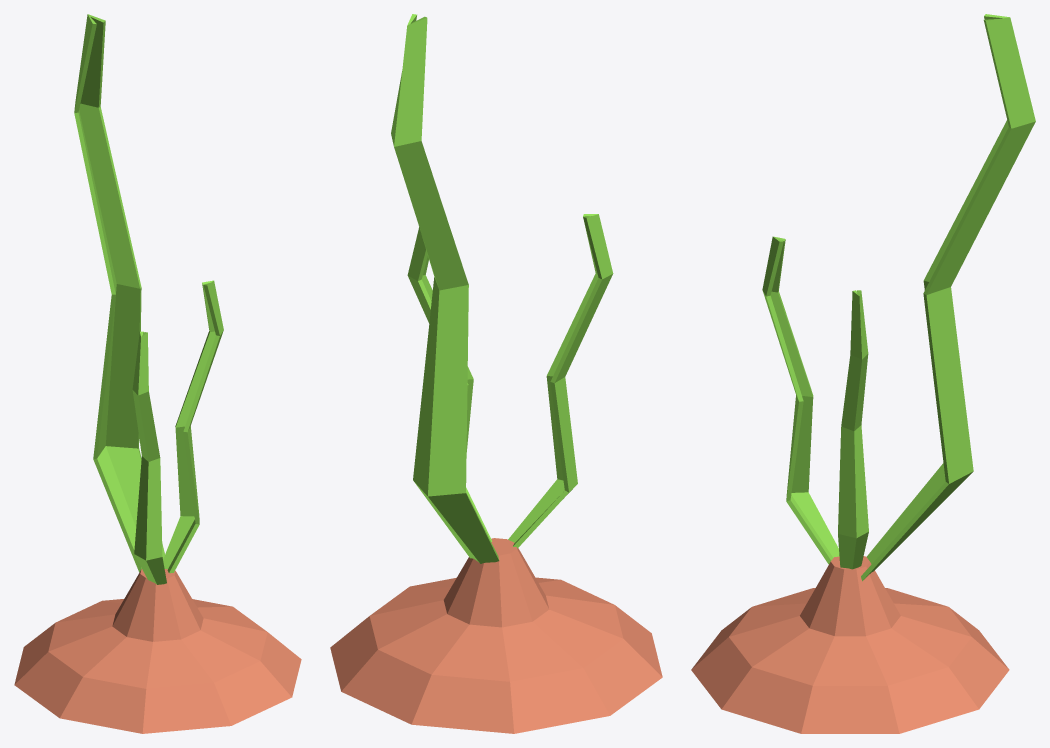
File: fruit10.fbx
The picture shows the model from 3 angles, left to right: view 1: azimuth 30°, elevation 25°; view 2: azimuth 150°, elevation 25°; view 3: azimuth 270°, elevation 25°; orthographic projection. The views are drawn at different scales.
Parts seen in each view (by area): view 1: Plane.006; view 2: Plane.006; view 3: Plane.006.
Boxes of the visible parts, bbox=[...] form: Plane.006: bbox=[14, 14, 301, 733]; Plane.006: bbox=[330, 14, 662, 733]; Plane.006: bbox=[691, 14, 1035, 733].
Bounding box in the file's own units: 0.0371 × 0.0885 × 0.0423.
